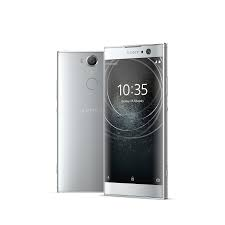sony: (103, 41, 170, 201), (53, 48, 103, 193)
